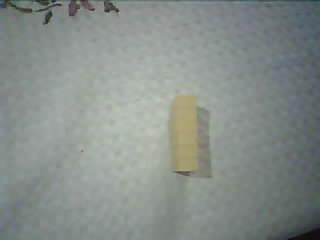lego: (168, 94, 198, 174)
